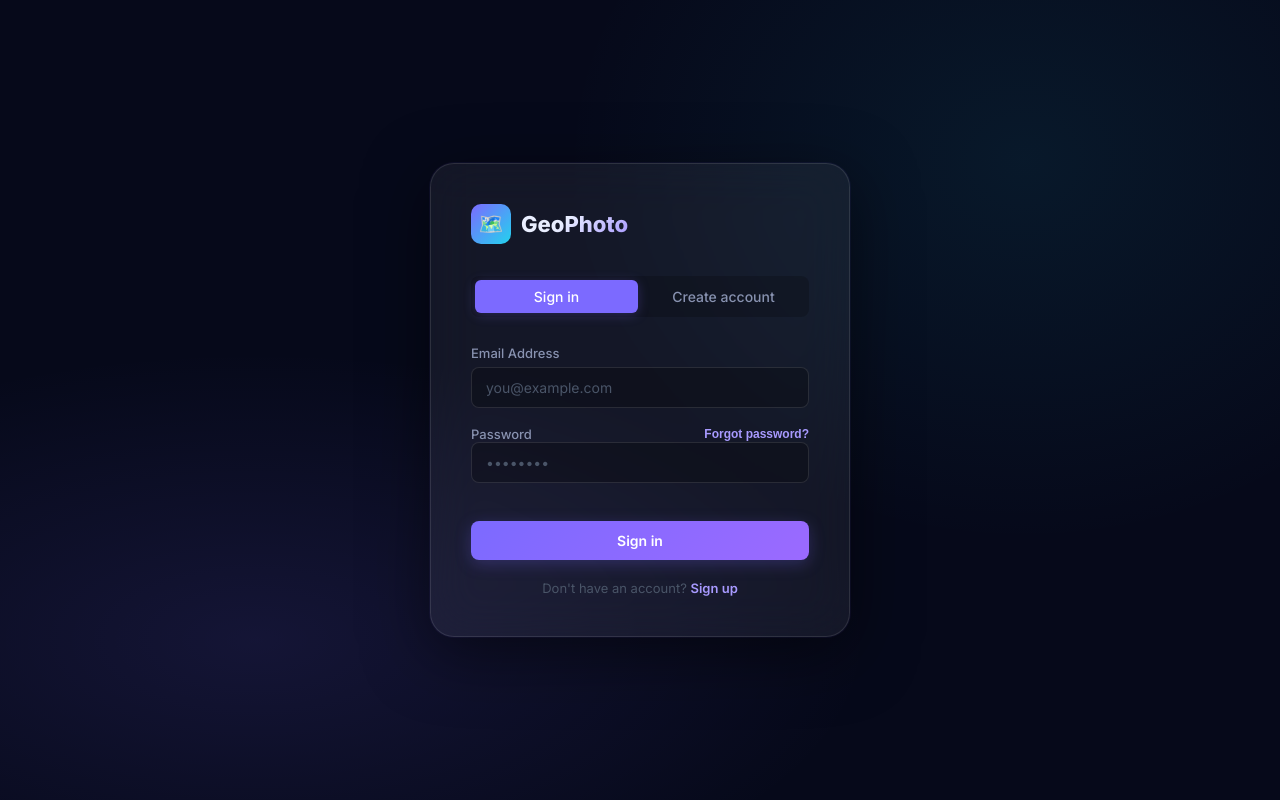
Test: AuthPage › allows switching to create account tab
Click the button with id "tab-signup".
click(724, 296)  # box [642,280,805,313]
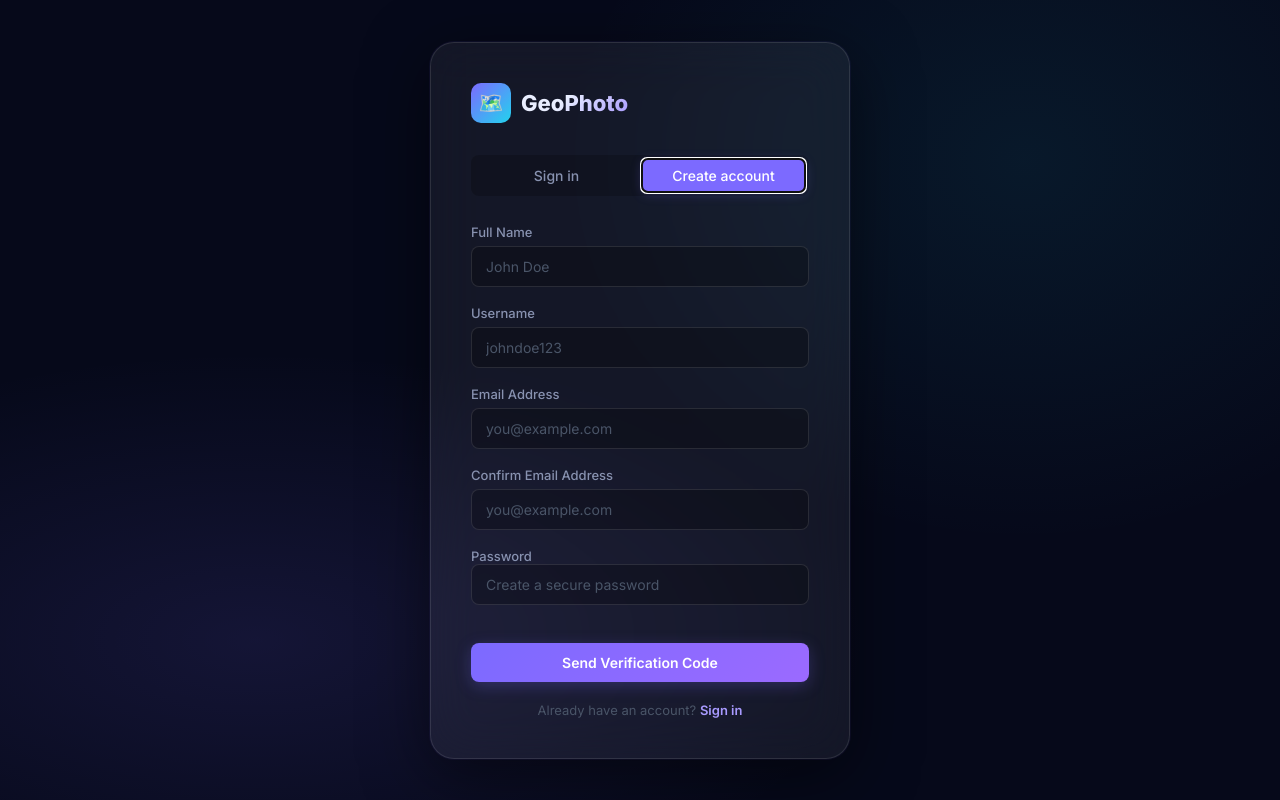
expect the field with id "auth-name" is shown: met, box [471,246,809,286]
expect the field with id "auth-username" is shown: met, box [471,326,809,368]
expect the field with id "auth-email-confirm" is shown: met, box [471,488,809,530]
